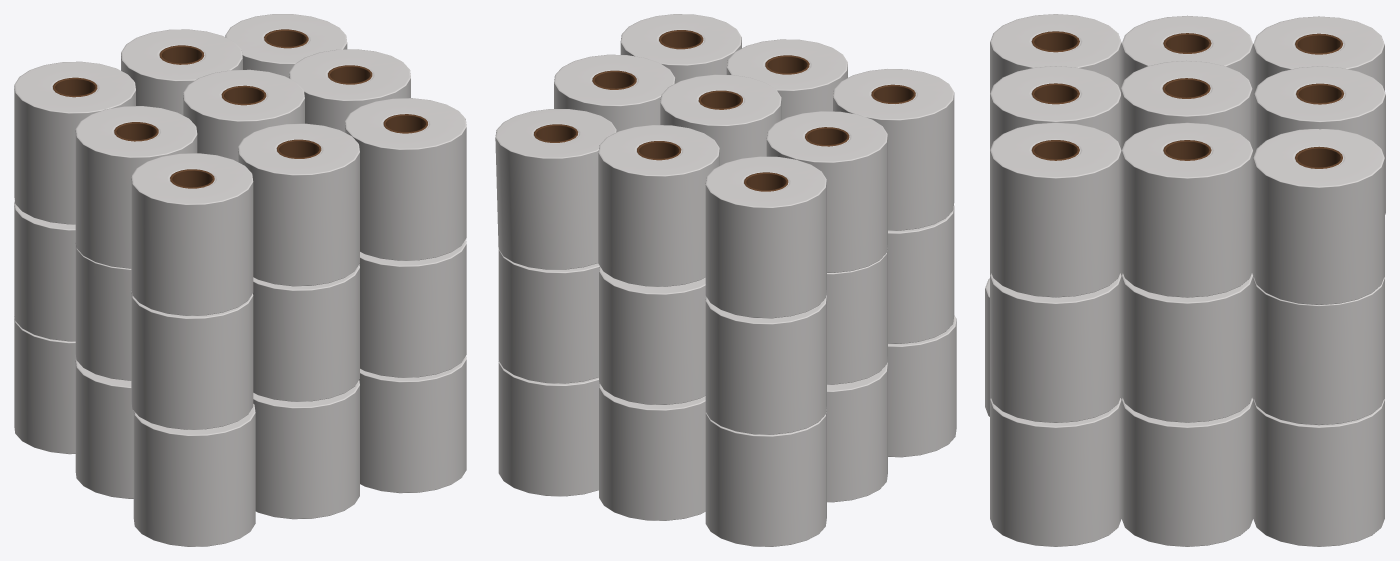
3 renders of one model, left to right at view 1: azimuth 30°, elevation 25°; view 2: azimuth 150°, elevation 25°; view 3: azimuth 270°, elevation 25°, orthographic. The views are drawn at different scales.
Parts seen in each view (by area): view 1: RollStandard12; view 2: RollStandard12; view 3: RollStandard12.
Boxes of the visible parts, box(x1,y1,x2,y2) form: RollStandard12: box(14, 14, 466, 546); RollStandard12: box(495, 14, 956, 546); RollStandard12: box(985, 14, 1385, 546).
Bounding box in the file's own units: 3.1 × 3.21 × 3.08.
